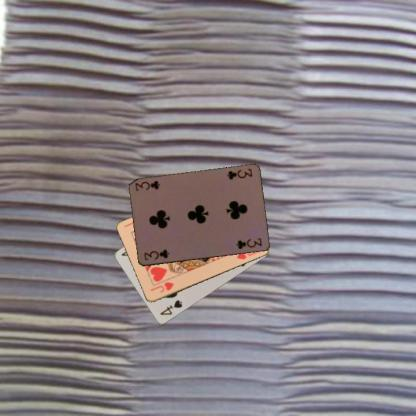3c: (141, 247, 170, 262), (224, 166, 253, 181)
4s: (157, 298, 184, 316)
Jh: (148, 280, 175, 294)
